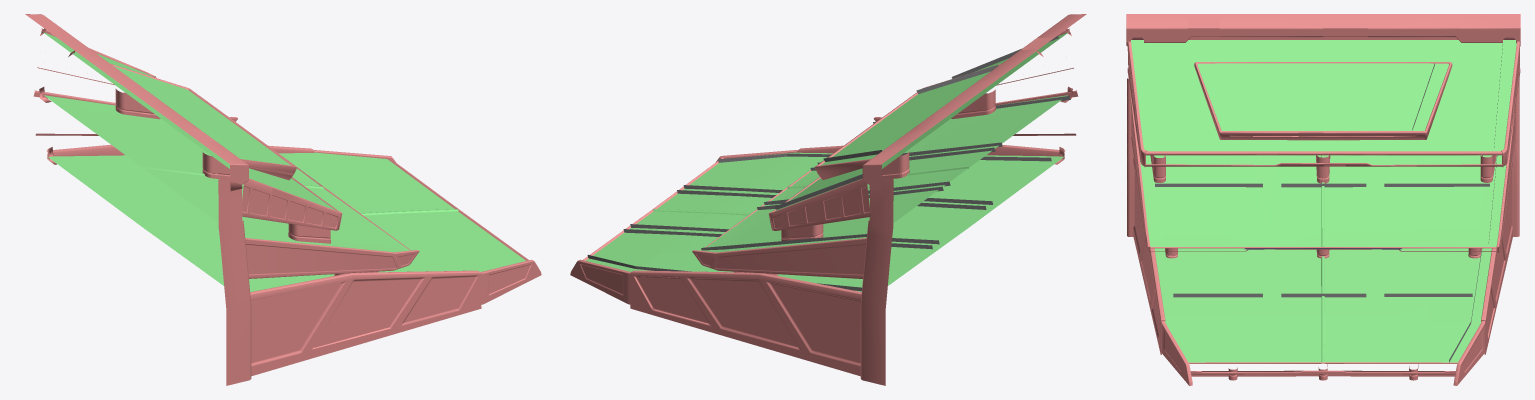
Rendered from CS_Stands_01.gltf.
The picture shows the model from 3 angles, left to right: view 1: azimuth 30°, elevation 25°; view 2: azimuth 150°, elevation 25°; view 3: azimuth 270°, elevation 25°; orthographic projection. The views are drawn at different scales.
Parts seen in each view (by area): view 1: CS_Stands_01; view 2: CS_Stands_01; view 3: CS_Stands_01.
Boxes of the visible parts, x1,y1,x2,y2 form: CS_Stands_01: (25, 14, 541, 385); CS_Stands_01: (570, 14, 1086, 385); CS_Stands_01: (1126, 14, 1520, 385).
Bounding box in the file's own units: 176 × 106 × 176.
